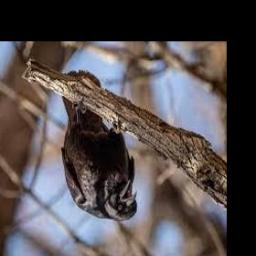Crow: (60, 70, 138, 222)
